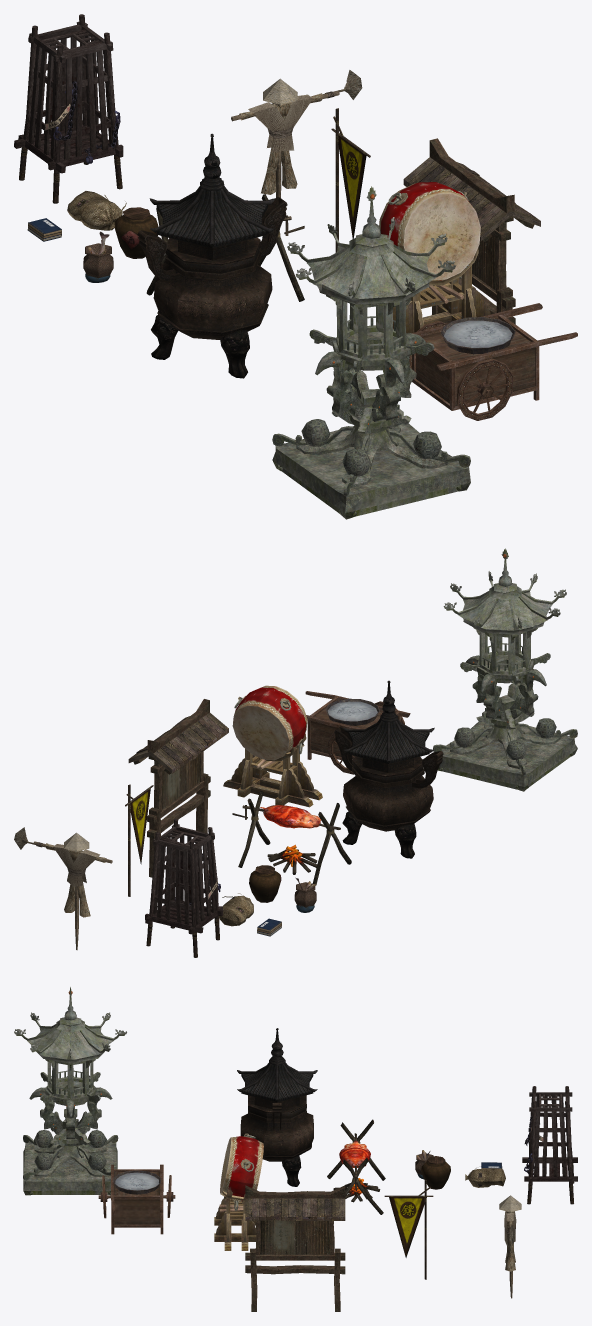
3 renders of one model, top to bottom at view 1: azimuth 30°, elevation 25°; view 2: azimuth 150°, elevation 25°; view 3: azimuth 270°, elevation 25°, orthographic. The views are drawn at different scales.
Parts seen in each view (by area): view 1: K_ShiDeng01_05, K_LianDanLu01, K_QiuLong01_NPC, K_JiaoZiTan01, K_Gu01, K_BuGaoPai01, K_DaoCaoRen01, K_BiaoQi_01, K_MaDai01, K_JiuTan01, K_YuLou01, K_KaoRuZhu01; view 2: K_ShiDeng01_05, K_LianDanLu01, K_Gu01, K_QiuLong01_NPC, K_BuGaoPai01, K_JiaoZiTan01, K_KaoRuZhu01, K_DaoCaoRen01, K_BiaoQi_01, K_JiuTan01, K_MaDai01; view 3: K_ShiDeng01_05, K_BuGaoPai01, K_LianDanLu01, K_QiuLong01_NPC, K_Gu01, K_JiaoZiTan01, K_KaoRuZhu01, K_BiaoQi_01, K_DaoCaoRen01, K_JiuTan01, K_MaDai01.
Boxes of the visible parts, x1=… form: K_ShiDeng01_05: x1=272, y1=186, x2=470, y2=519; K_LianDanLu01: x1=137, y1=133, x2=287, y2=378; K_QiuLong01_NPC: x1=14, y1=14, x2=123, y2=203; K_JiaoZiTan01: x1=409, y1=303, x2=577, y2=420; K_Gu01: x1=379, y1=182, x2=490, y2=333; K_BuGaoPai01: x1=403, y1=138, x2=540, y2=324; K_DaoCaoRen01: x1=231, y1=70, x2=362, y2=229; K_BiaoQi_01: x1=331, y1=108, x2=370, y2=252; K_MaDai01: x1=67, y1=191, x2=126, y2=230; K_JiuTan01: x1=114, y1=207, x2=158, y2=258; K_YuLou01: x1=83, y1=231, x2=113, y2=278; K_KaoRuZhu01: x1=146, y1=194, x2=304, y2=301; K_ShiDeng01_05: x1=433, y1=548, x2=577, y2=791; K_LianDanLu01: x1=334, y1=680, x2=443, y2=858; K_Gu01: x1=223, y1=685, x2=322, y2=807; K_QiuLong01_NPC: x1=145, y1=819, x2=223, y2=957; K_BuGaoPai01: x1=128, y1=699, x2=228, y2=877; K_JiaoZiTan01: x1=305, y1=691, x2=410, y2=774; K_KaoRuZhu01: x1=232, y1=790, x2=351, y2=885; K_DaoCaoRen01: x1=14, y1=827, x2=112, y2=950; K_BiaoQi_01: x1=125, y1=784, x2=153, y2=896; K_JiuTan01: x1=249, y1=865, x2=281, y2=902; K_MaDai01: x1=219, y1=893, x2=253, y2=926; K_ShiDeng01_05: x1=14, y1=987, x2=126, y2=1195; K_BuGaoPai01: x1=245, y1=1185, x2=345, y2=1311; K_LianDanLu01: x1=237, y1=1028, x2=317, y2=1186; K_QiuLong01_NPC: x1=522, y1=1086, x2=577, y2=1204; K_Gu01: x1=214, y1=1133, x2=263, y2=1250; K_JiaoZiTan01: x1=98, y1=1164, x2=175, y2=1234; K_KaoRuZhu01: x1=327, y1=1119, x2=385, y2=1214; K_BiaoQi_01: x1=384, y1=1180, x2=433, y2=1279; K_DaoCaoRen01: x1=499, y1=1195, x2=521, y2=1298; K_JiuTan01: x1=421, y1=1156, x2=450, y2=1189; K_MaDai01: x1=465, y1=1168, x2=505, y2=1187.
Size of the model in its own units: 254 by 219 by 471.
22 materials, 22 textured.
